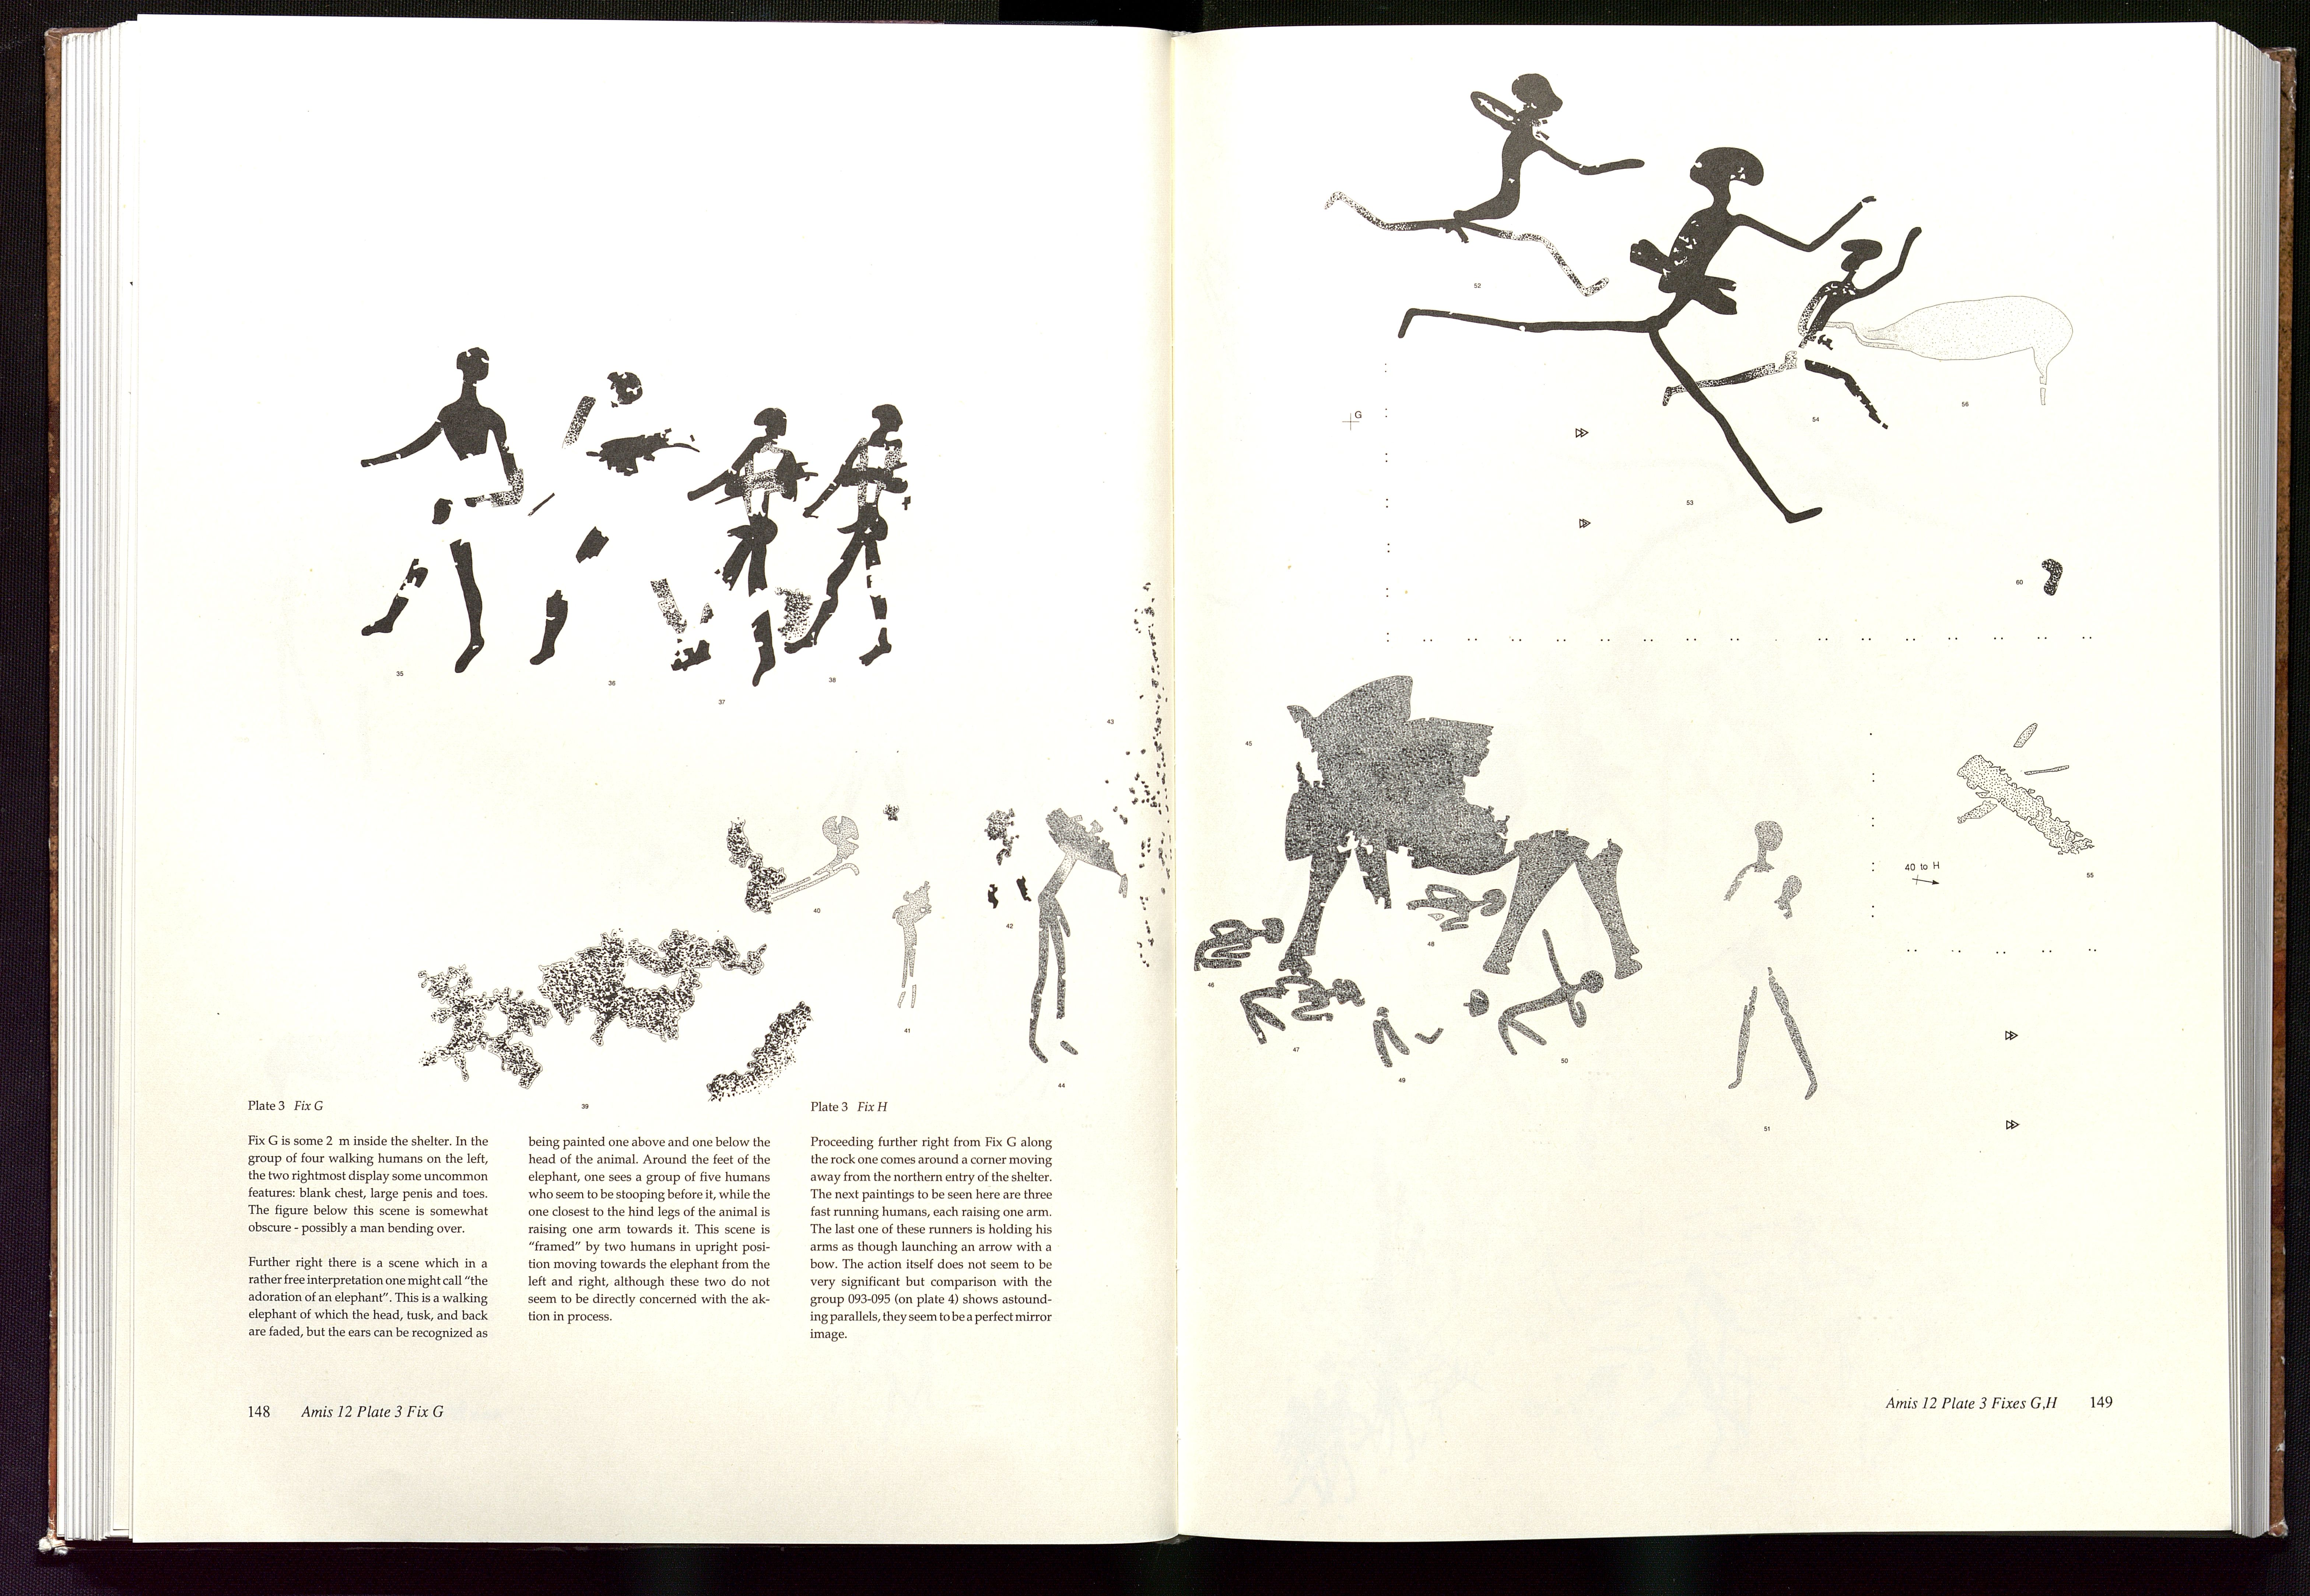human: (1389, 143, 1885, 536), (1318, 65, 1652, 313), (338, 337, 530, 681), (1637, 220, 1927, 441), (515, 364, 709, 686), (1704, 811, 1838, 1113), (788, 396, 920, 686), (684, 404, 814, 694)
